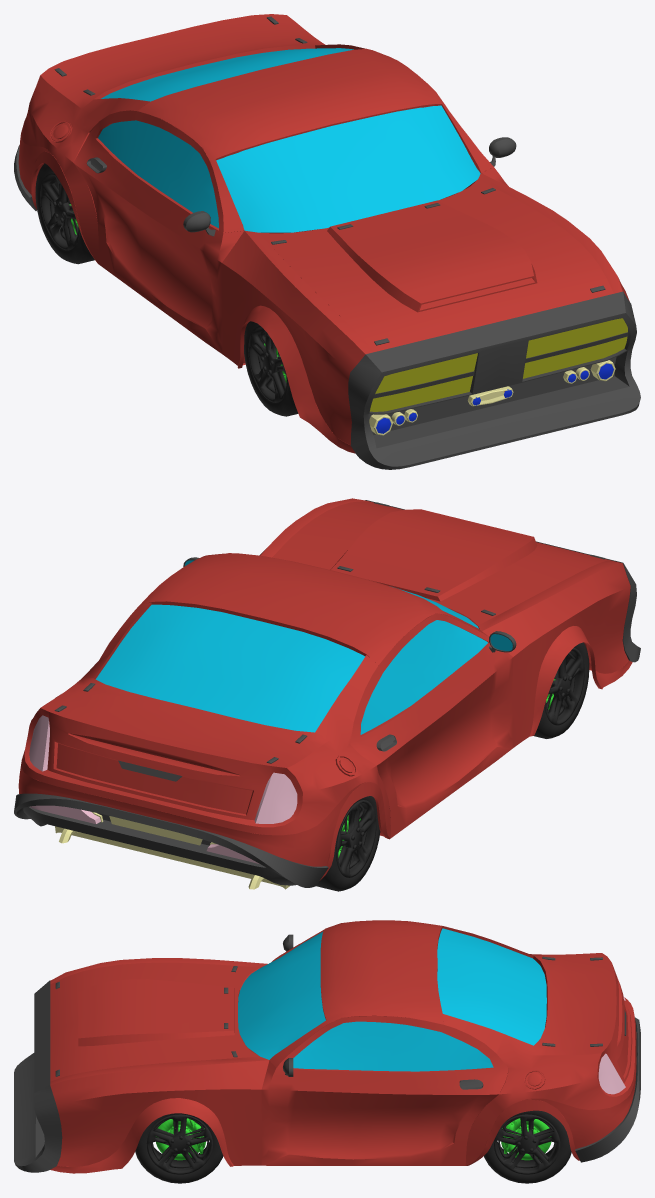
File: Striker_Retopo_Final.fbx
3 views of the same model, one above another, from view 1: azimuth 30°, elevation 25°; view 2: azimuth 150°, elevation 25°; view 3: azimuth 270°, elevation 25° (orthographic). The views are drawn at different scales.
Parts seen in each view (by area): view 1: car_body_l, windows_l, metal_l, heaxgon_pattern_l, breaks_l.003, breaks_l.002, front_glass_l; view 2: car_body_l, windows_l, metal_l, back_glass_l, breaks_l.003, breaks_l.002; view 3: car_body_l, windows_l, metal_l, breaks_l, breaks_l.001, back_glass_l.
Boxes of the visible parts, x1,y1,x2,y2 form: car_body_l: (18, 14, 629, 453); windows_l: (98, 48, 480, 232); metal_l: (14, 16, 640, 469); heaxgon_pattern_l: (370, 318, 627, 411); breaks_l.003: (35, 163, 94, 264); breaks_l.002: (244, 321, 298, 416); front_glass_l: (376, 363, 613, 433); car_body_l: (18, 498, 632, 880); windows_l: (95, 560, 512, 734); metal_l: (14, 500, 640, 889); back_glass_l: (29, 715, 297, 863); breaks_l.003: (316, 796, 380, 891); breaks_l.002: (533, 642, 589, 738); car_body_l: (50, 920, 636, 1173); windows_l: (238, 928, 546, 1071); metal_l: (14, 934, 640, 1172); breaks_l: (484, 1110, 571, 1183); breaks_l.001: (135, 1113, 223, 1183); back_glass_l: (598, 996, 625, 1094).
Size of the model in its own units: 251 by 146 by 494.
